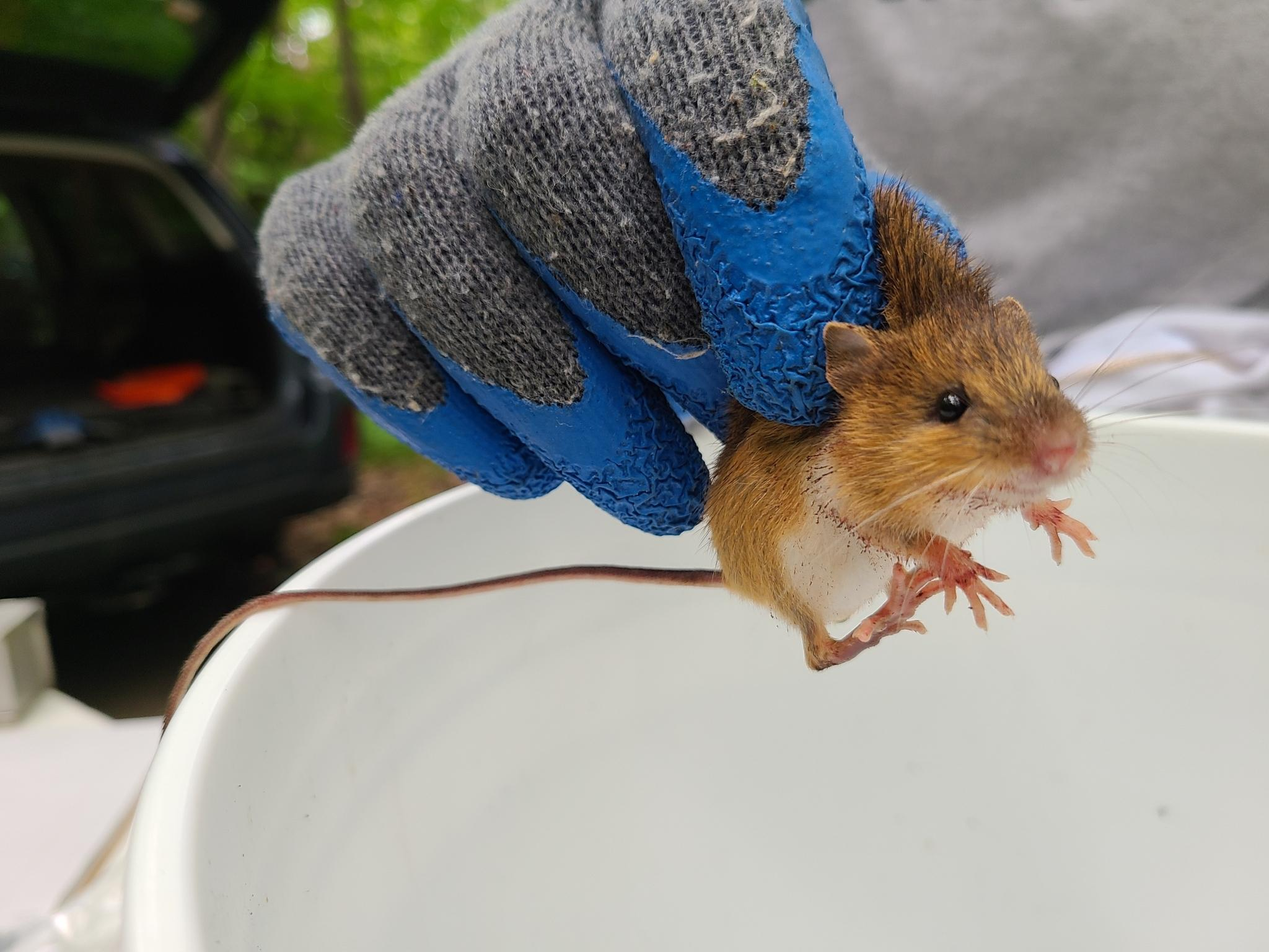rat: (162, 286, 1089, 723)
